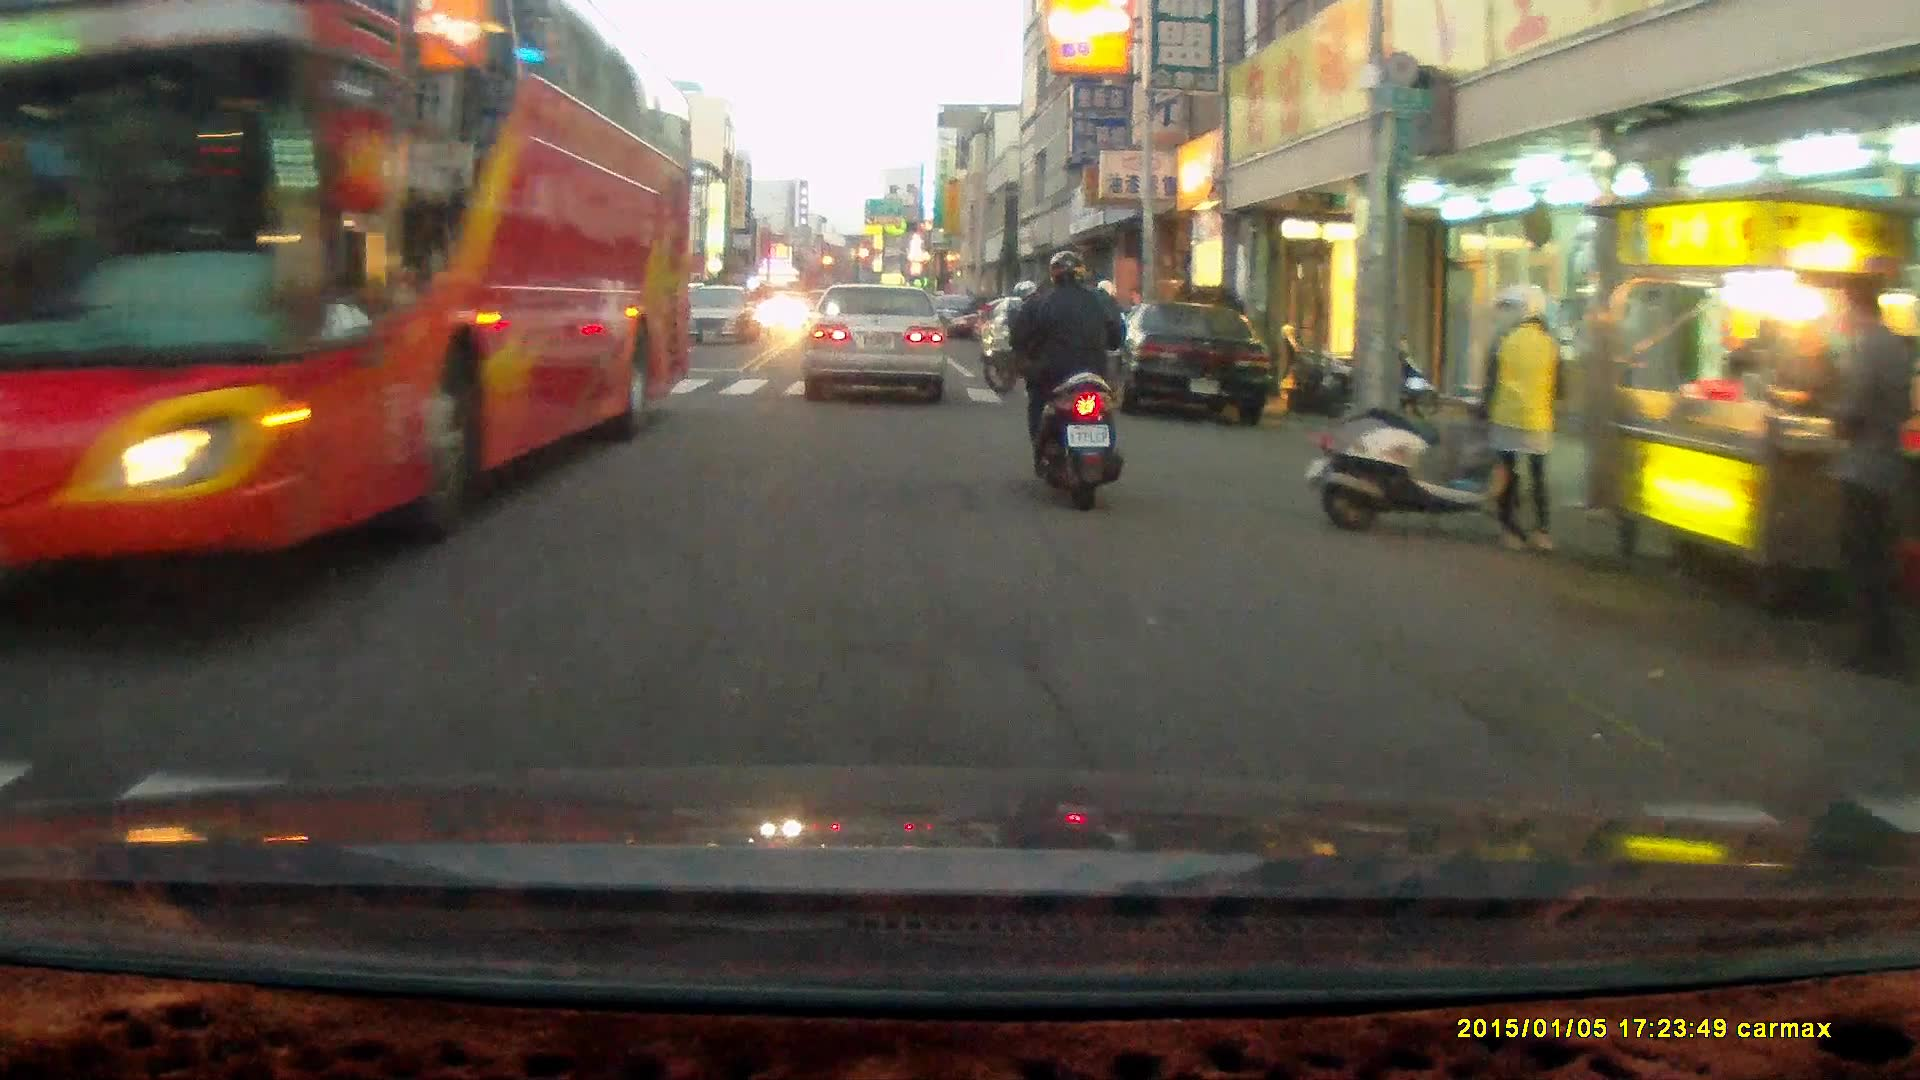pedestrian: (1775, 276, 1914, 680), (1477, 280, 1567, 558)
rider: (999, 249, 1122, 513), (985, 273, 1057, 398)
vehicle: (1, 17, 703, 570), (1094, 300, 1284, 426), (803, 281, 949, 403), (688, 286, 757, 350)
